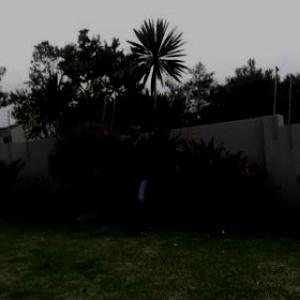land: (90, 109, 193, 240)
